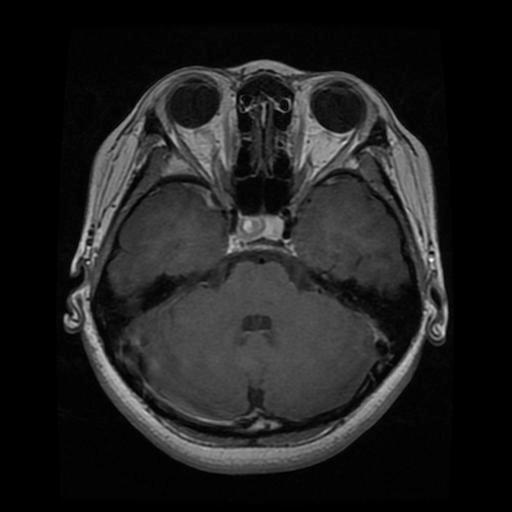Tumour-Pituitary: (223, 213, 290, 257)
